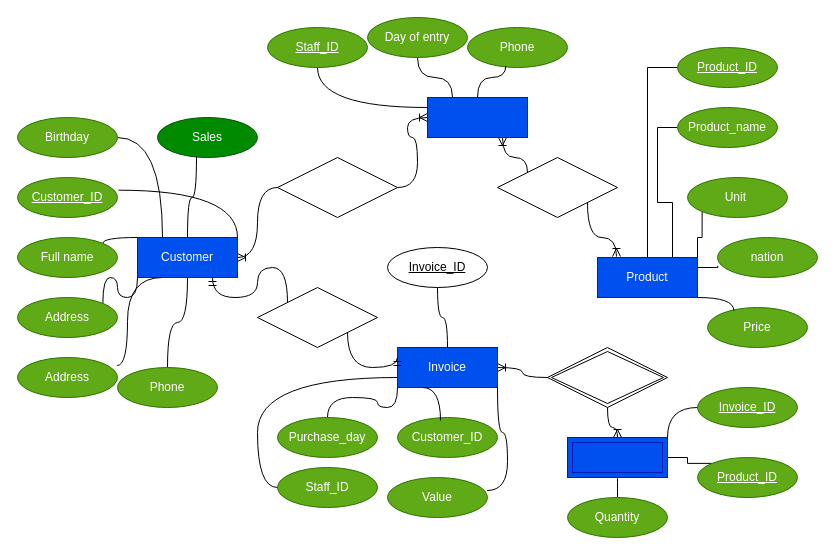
Some shapes in this 835 by 555 pixel diagram are drawn without their labels. The centre of each missing label's shape, as x and y in pixels:
"Detail_invoice" goes at point (617, 457).
"Explain detail" goes at point (607, 377).
"Payment" goes at point (317, 317).
"Sell" goes at point (557, 187).
"Staff" goes at point (477, 117).
"store information" goes at point (337, 187).
